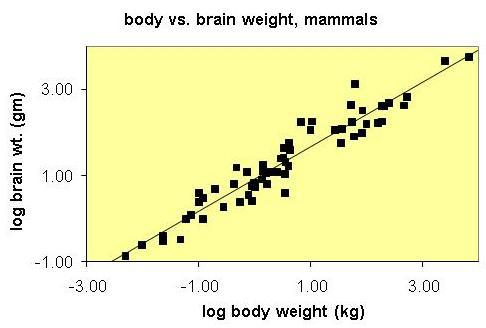axis: (78, 257, 482, 268), (79, 44, 91, 270)
point: (280, 187, 292, 199), (377, 100, 389, 112), (439, 55, 451, 67), (208, 183, 221, 194), (401, 91, 414, 102), (120, 250, 131, 262), (218, 201, 229, 213), (228, 179, 240, 190), (279, 169, 291, 180), (283, 160, 294, 172), (307, 115, 319, 126), (295, 116, 306, 128), (335, 137, 346, 149), (464, 51, 475, 63), (256, 159, 269, 169), (137, 240, 148, 251), (186, 209, 197, 220), (198, 214, 209, 225), (193, 197, 204, 208), (193, 188, 204, 199), (258, 167, 269, 178), (242, 166, 253, 177), (286, 144, 297, 155), (306, 125, 317, 136), (347, 117, 358, 128), (357, 105, 368, 116), (345, 100, 356, 111), (350, 78, 361, 89), (247, 196, 259, 206), (261, 180, 273, 190), (283, 137, 295, 147), (338, 123, 347, 136), (156, 238, 170, 246), (175, 234, 186, 244), (181, 214, 191, 225), (198, 193, 209, 203), (234, 197, 245, 207), (246, 181, 257, 191), (263, 167, 274, 177), (232, 162, 242, 173), (278, 142, 288, 153), (349, 131, 359, 142), (357, 128, 367, 139), (362, 119, 372, 130), (372, 118, 383, 128), (384, 97, 394, 108), (243, 190, 255, 199), (247, 177, 259, 186), (330, 124, 339, 136), (251, 182, 262, 191), (257, 175, 268, 184), (271, 166, 280, 177), (279, 153, 290, 162), (377, 117, 388, 126), (398, 101, 409, 110), (157, 232, 169, 240), (280, 157, 290, 166), (275, 154, 284, 163)
